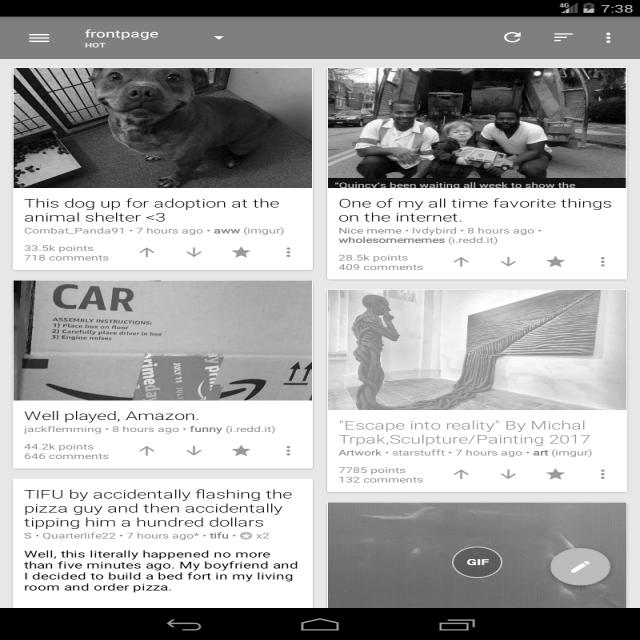ImageButton: (325, 189, 614, 230), (587, 25, 627, 57), (20, 29, 64, 41), (500, 33, 531, 49), (548, 28, 578, 44)
ImageView: (18, 62, 320, 186), (14, 273, 308, 397), (330, 61, 620, 186), (314, 502, 623, 602), (328, 296, 585, 394)
TextView: (18, 483, 290, 543), (20, 550, 301, 596), (330, 413, 604, 457), (9, 403, 288, 439), (22, 198, 310, 232)
